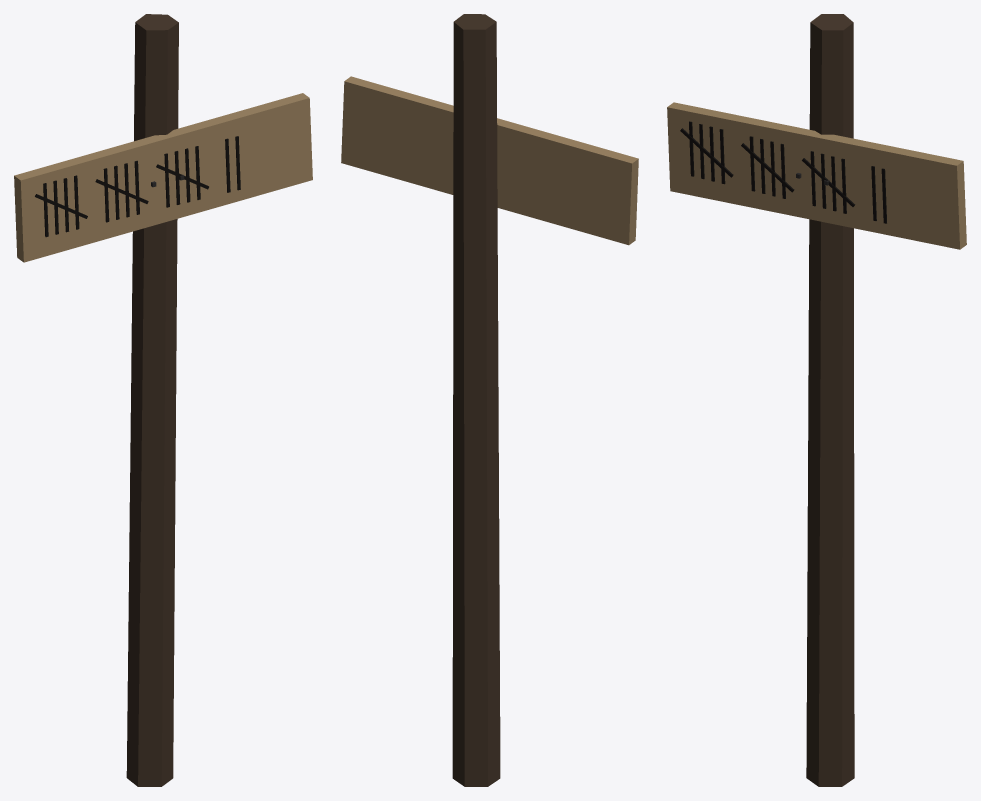
Rendered from marker.glb.
3 renders of one model, left to right at view 1: azimuth 30°, elevation 25°; view 2: azimuth 150°, elevation 25°; view 3: azimuth 330°, elevation 25°, orthographic.
Visible parts, largest first — view 1: marker; view 2: marker; view 3: marker.
Boxes of the visible parts, <box> form: marker: <box>14,14,312,786</box>; marker: <box>341,14,638,786</box>; marker: <box>667,14,966,786</box>.
Size of the model in its own units: 0.6263 by 1.55 by 0.1128.
